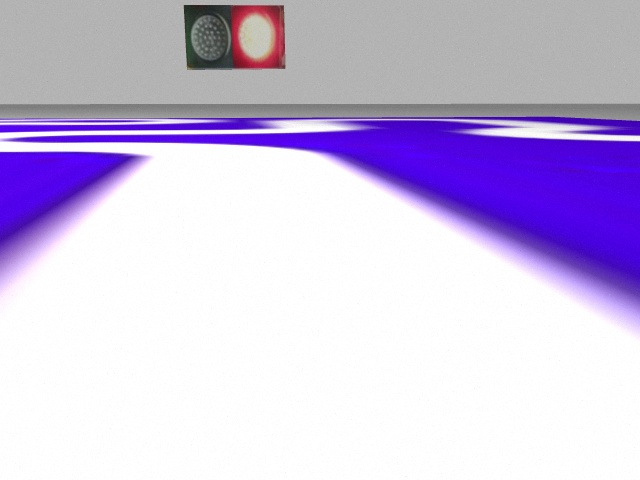red: (230, 4, 288, 69)
